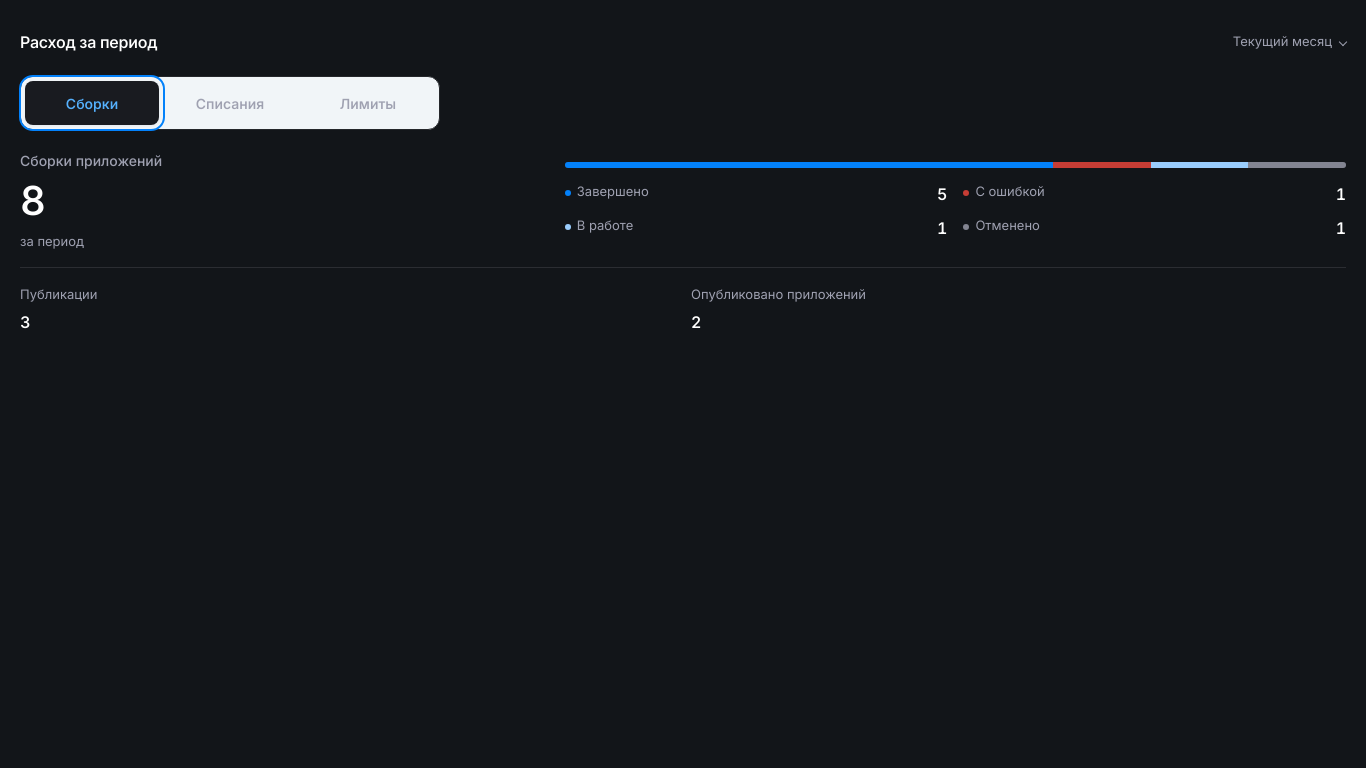
Test: switches one visible panel by keyboard and click without making a payment request
The image size is (1366, 768).
Expected: the panel shows "Сборки приложений", [20,152,162,169]
Press ArrowRight in the tab "Сборки", box [25,81,159,125]
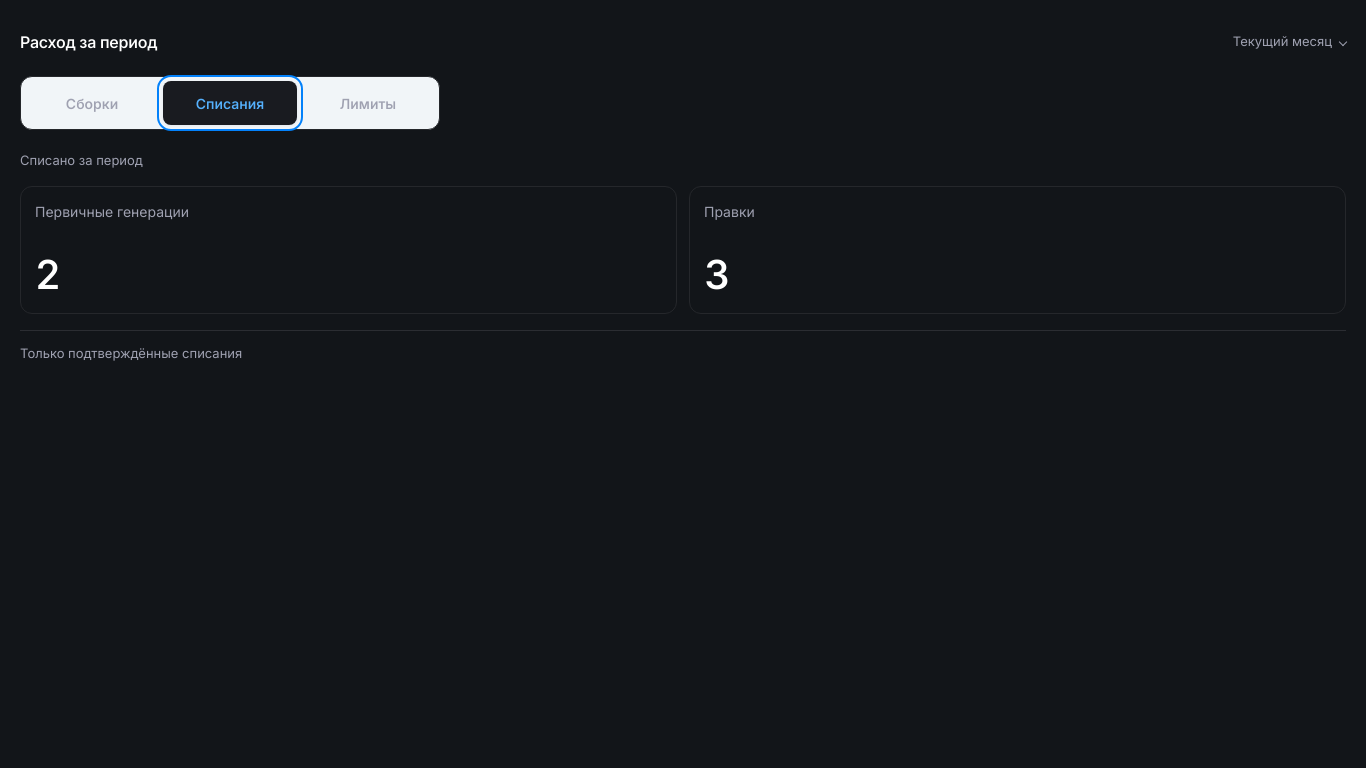
Expected: the number of panels is 1, [20,150,1346,363]
Expected: the tab "Списания" is selected
Press End in the tab "Списания", box [163,81,297,125]
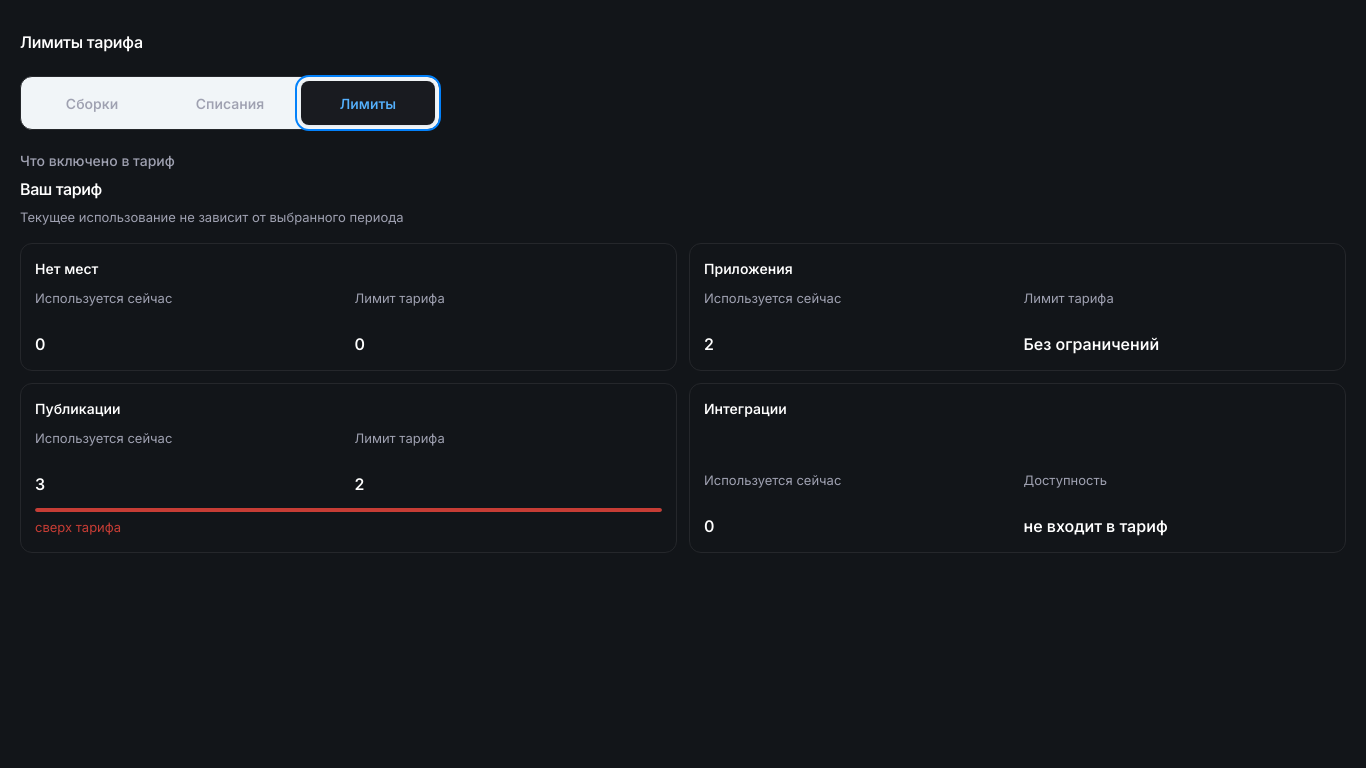
Press Home in the tab "Лимиты", box [301,81,435,125]
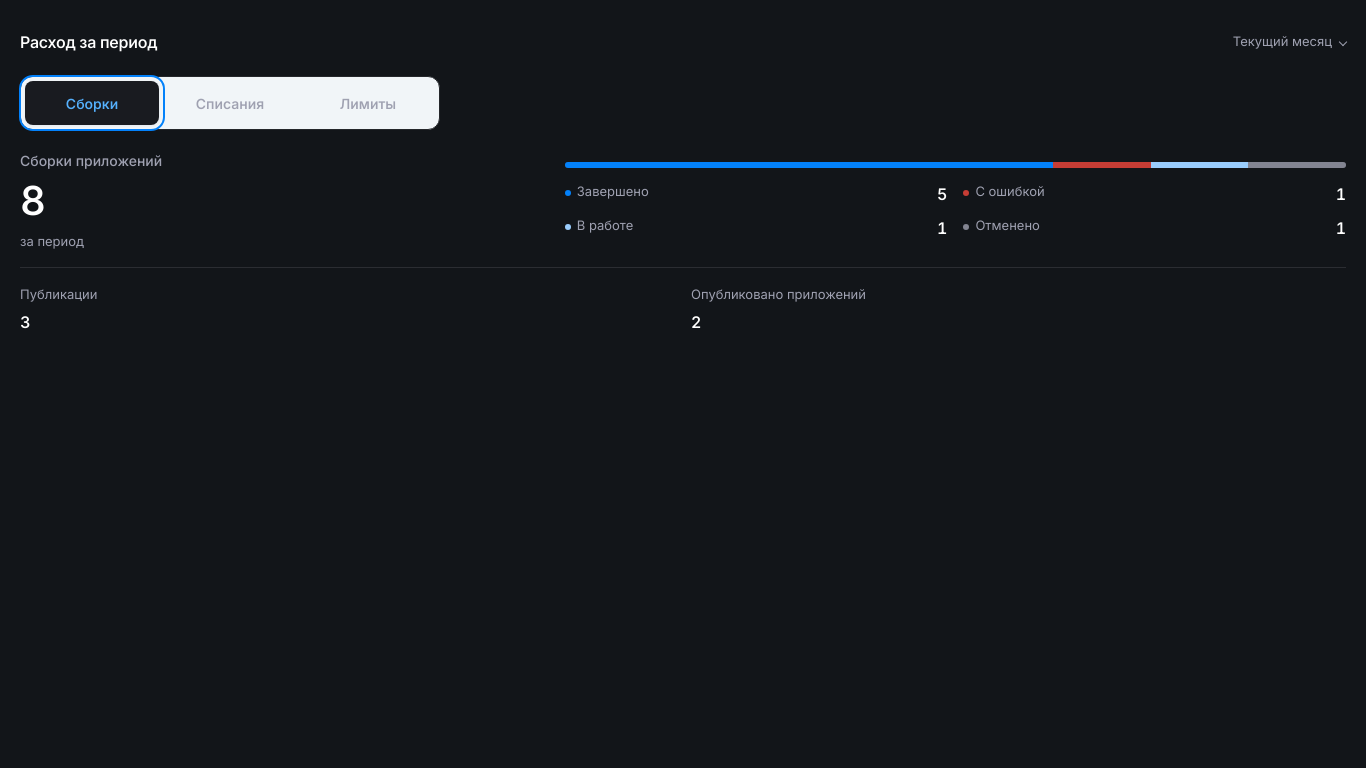
Click the tab "Списания" at (230, 103), box [163,81,297,125]
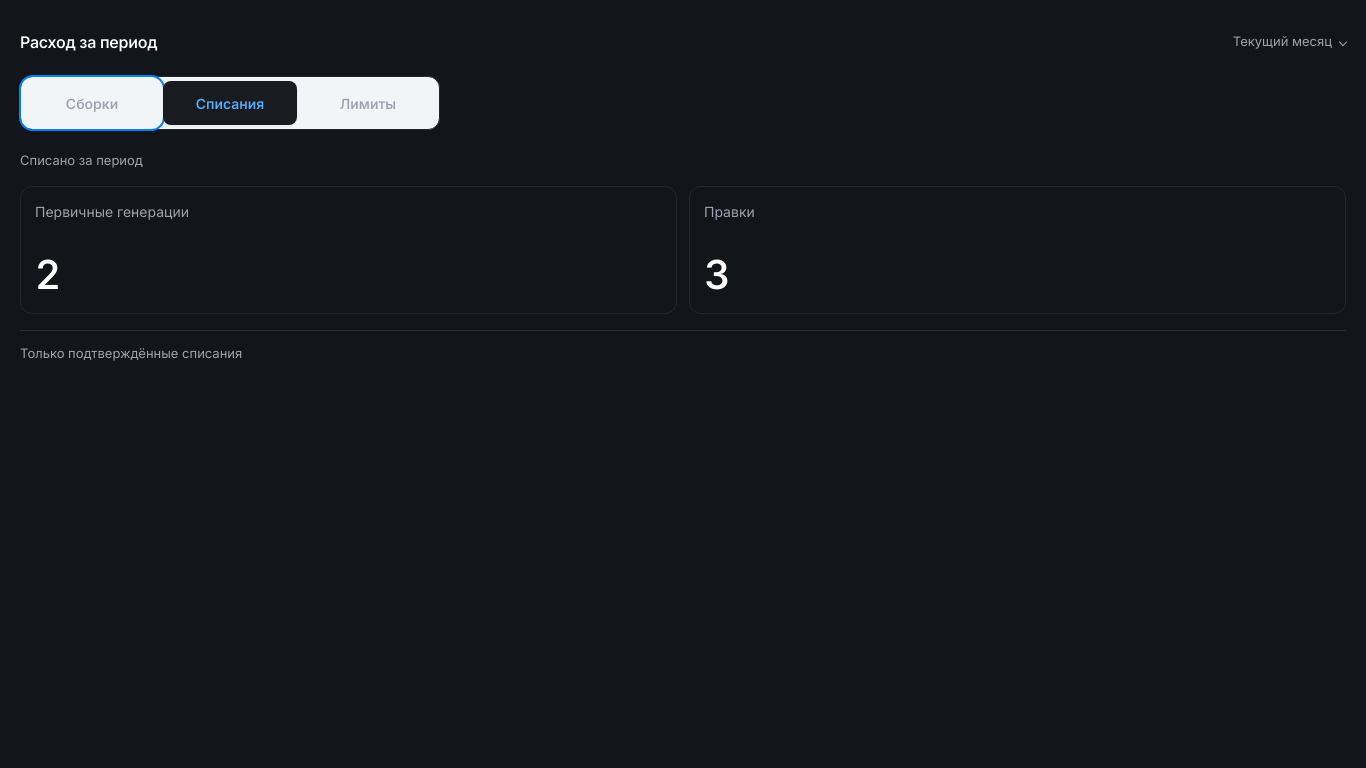
Expected: the panel shows "Только подтверждённые списания", [20,345,242,361]
